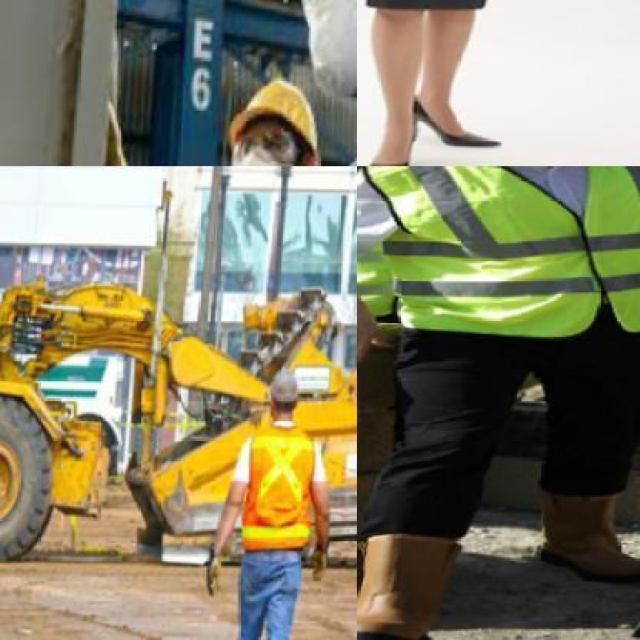Vest: (357, 166, 638, 340), (246, 424, 325, 550)
